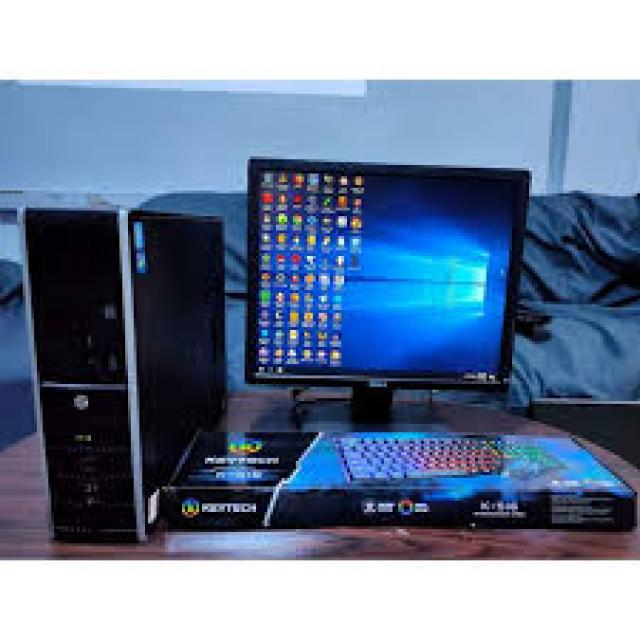Computer: (13, 190, 234, 543)
Monitor: (246, 149, 529, 404)
